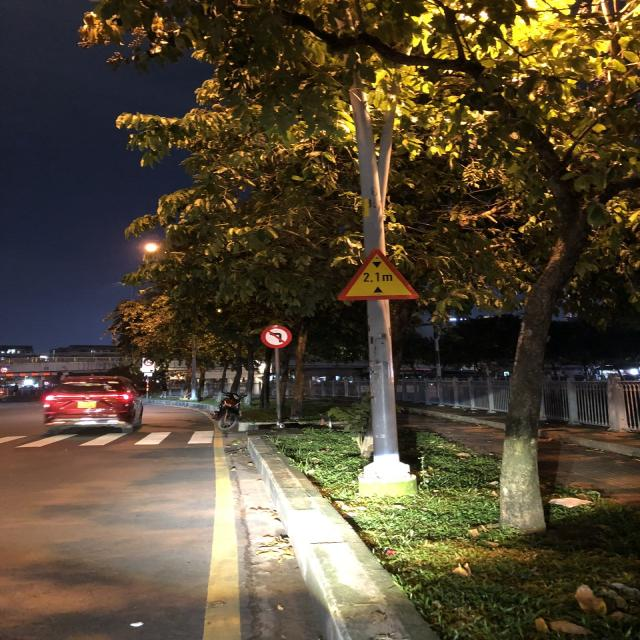Bien bao cam re trai: (258, 321, 294, 350)
Bien bao chieu cao tinh khong thuc te: (334, 246, 424, 308)
